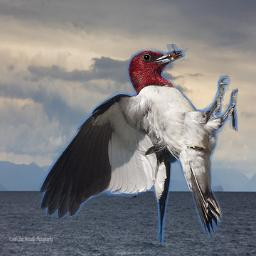Woodpecker: (39, 44, 238, 244)
